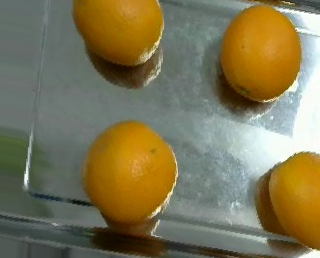Orange: (82, 120, 179, 225), (220, 4, 302, 101), (70, 1, 165, 66)
